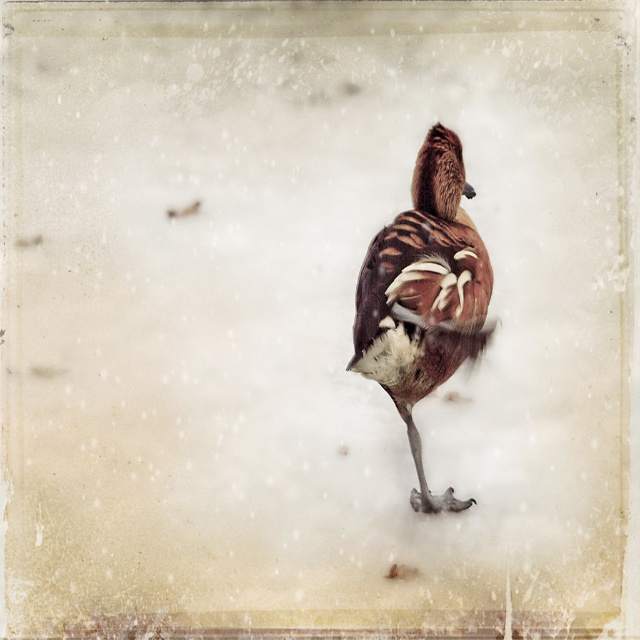Duck: (334, 100, 509, 525)
